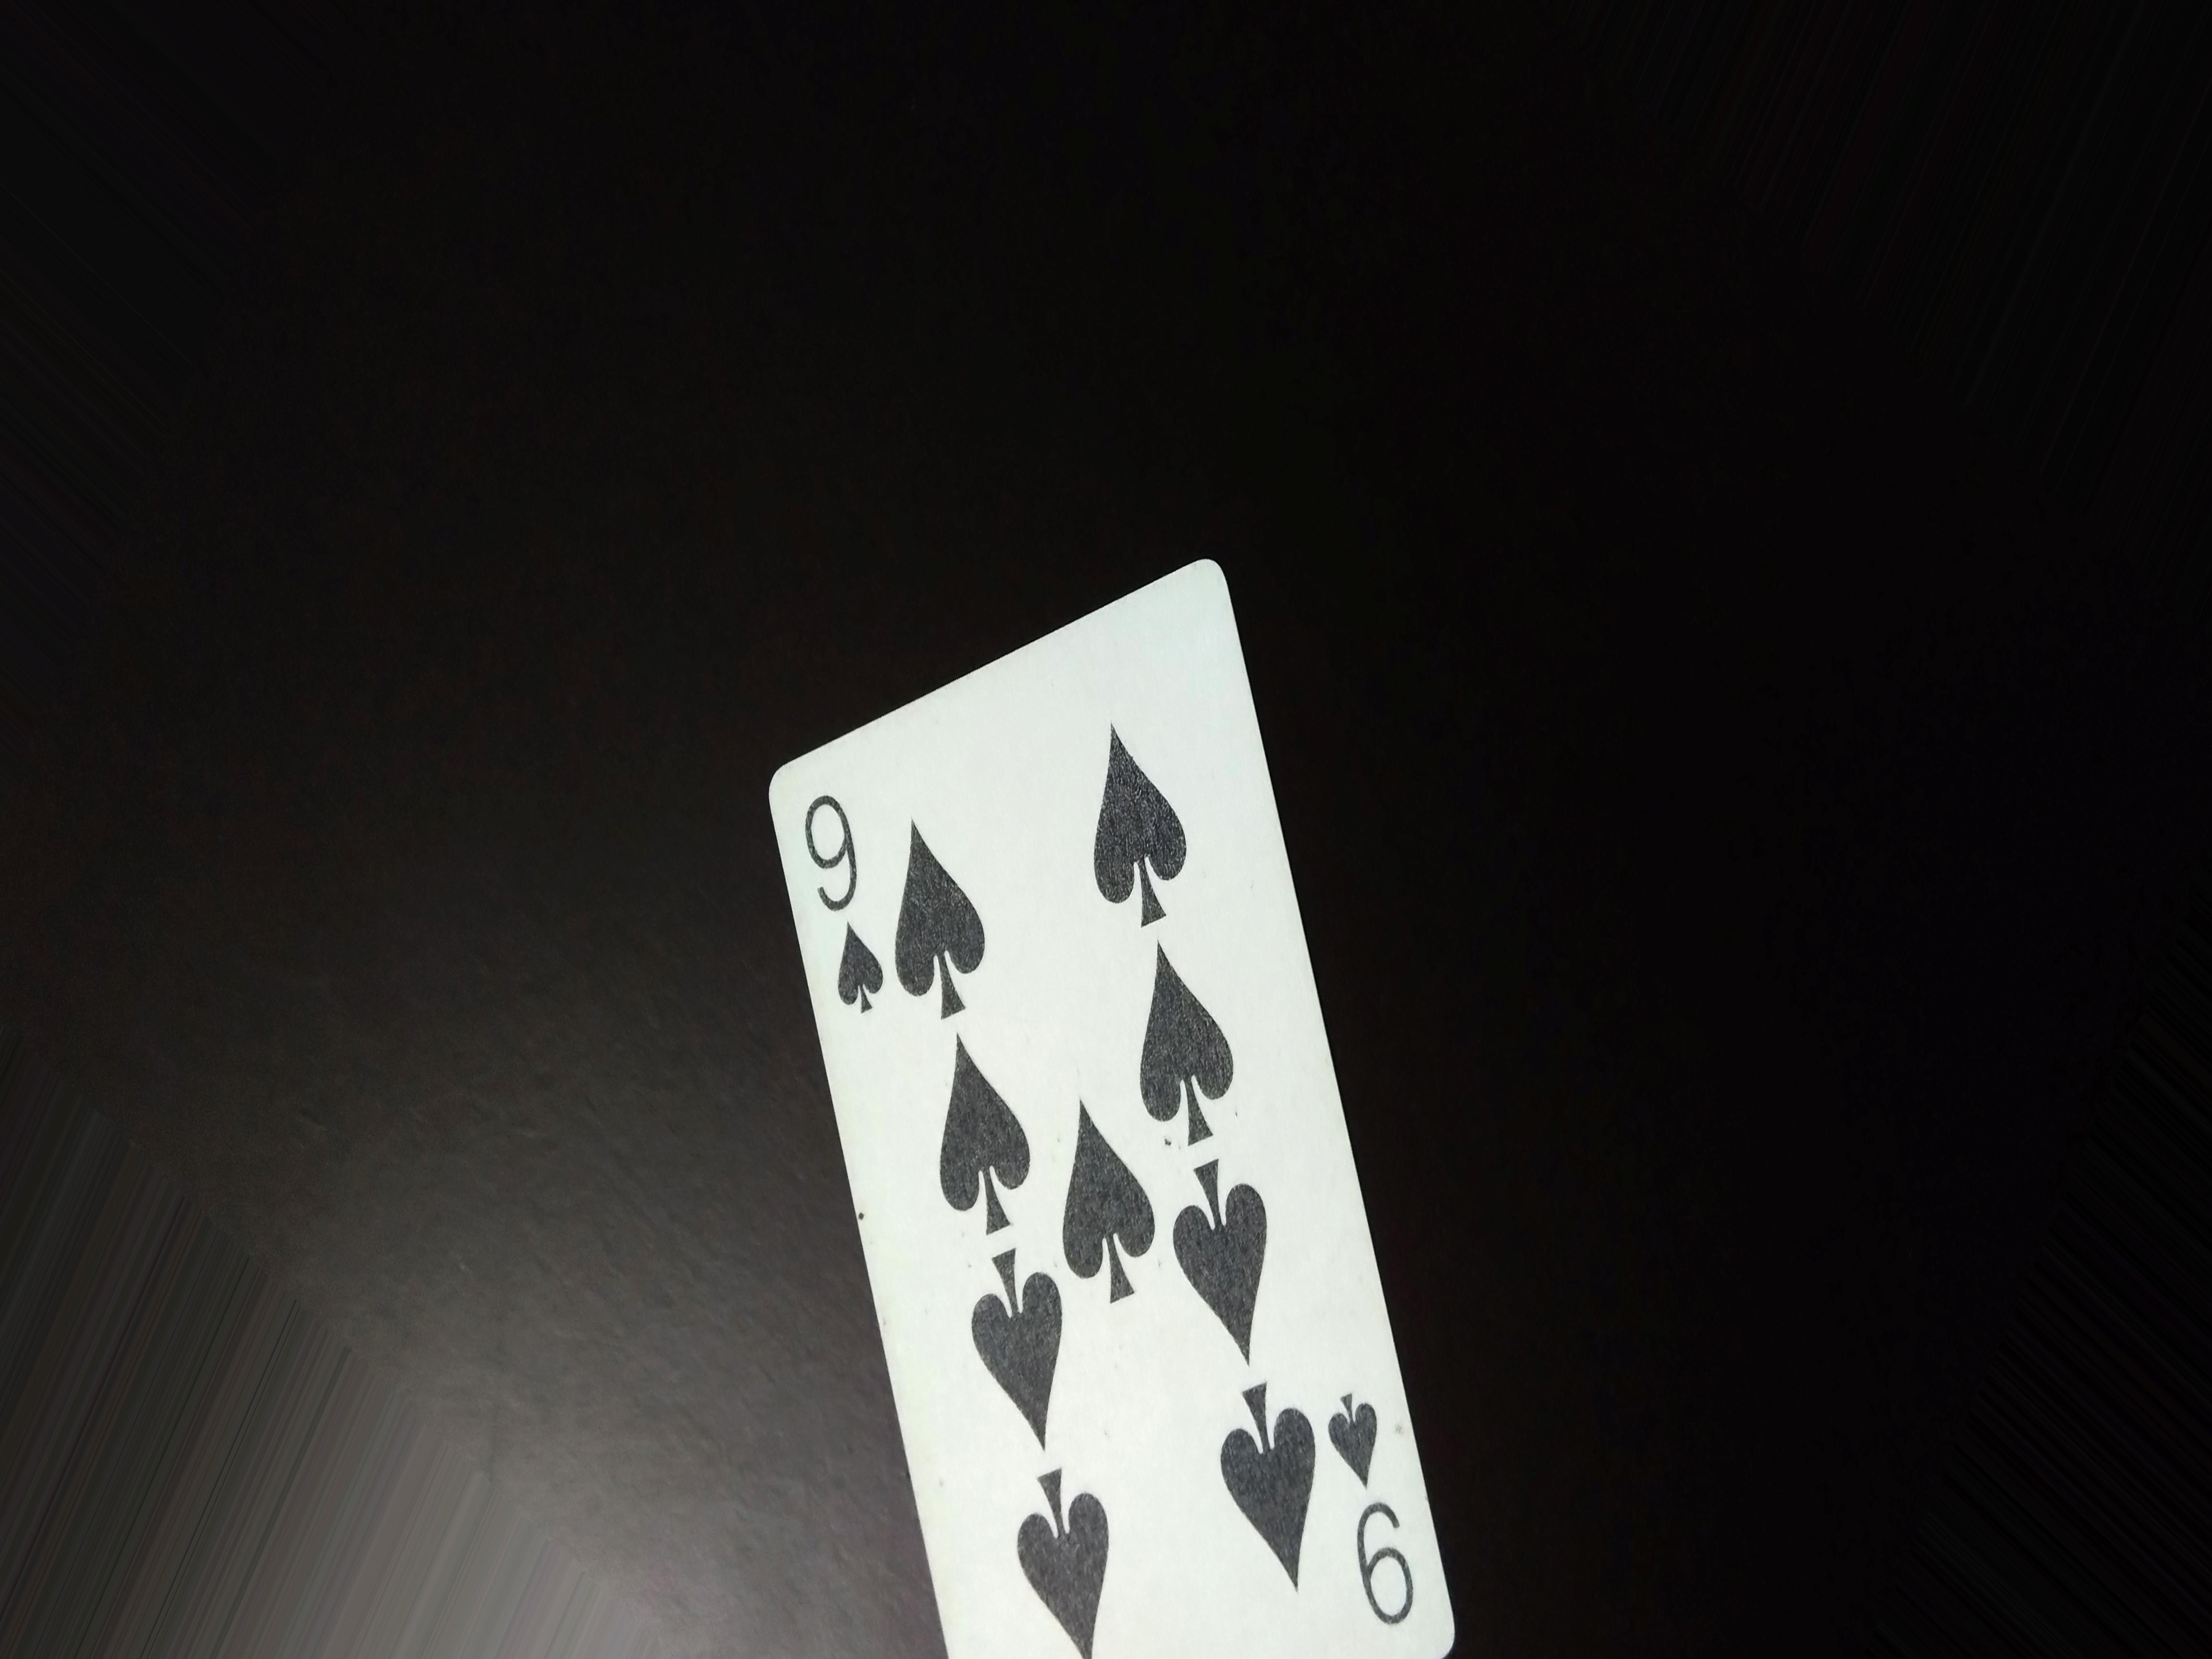9S: (789, 765, 930, 1044)
